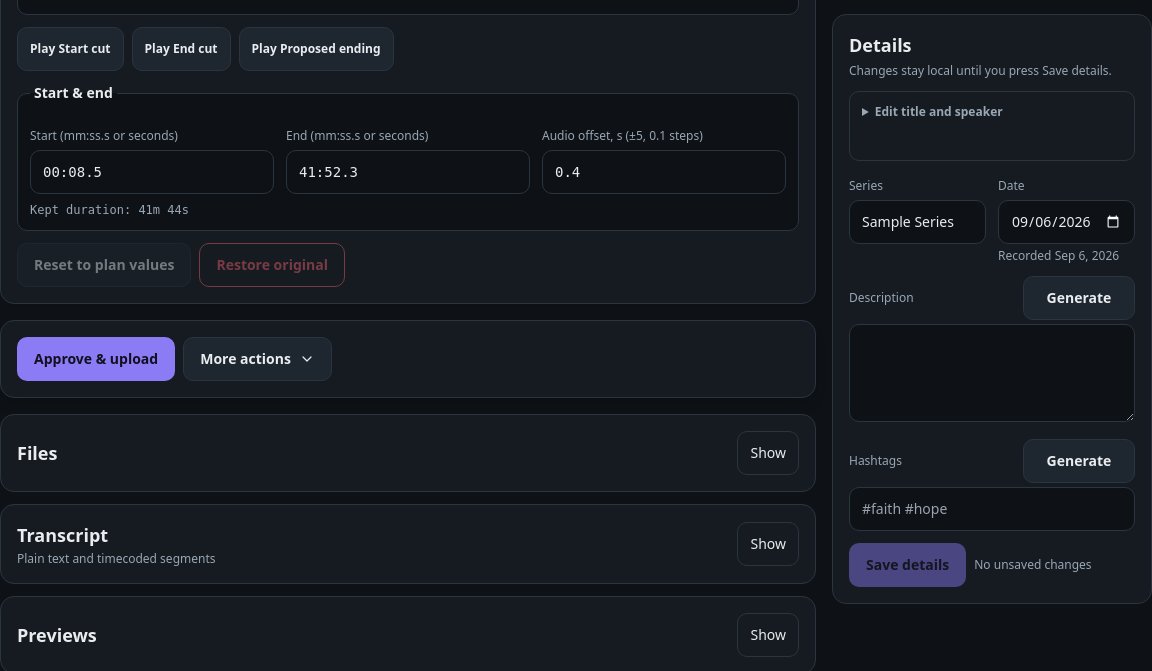
Test: SermonReview mobile layout › renders one refine panel after the action row
(page scrolled)
What coordinates should you click on to do the following:
click the button "More actions"
I would click on:
 (258, 358)
Its box is [183,336,332,380].
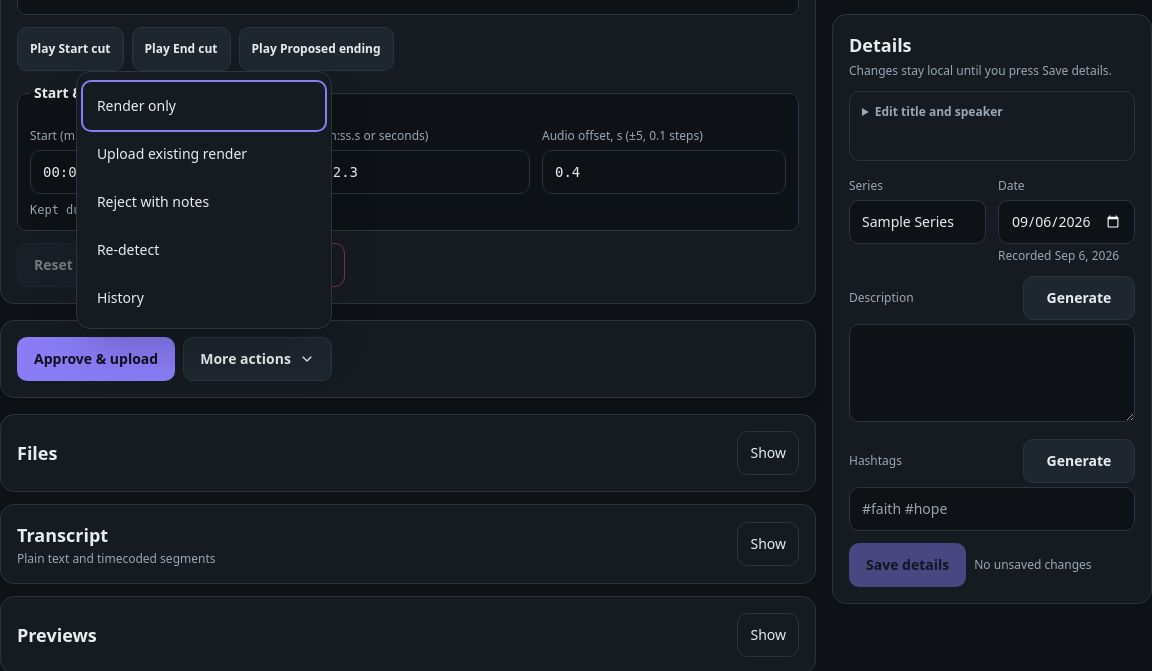
What coordinates should you click on to do the following:
click the menu item "Reject with notes"
I would click on:
 (204, 202)
Its box is [85,180,323,224].
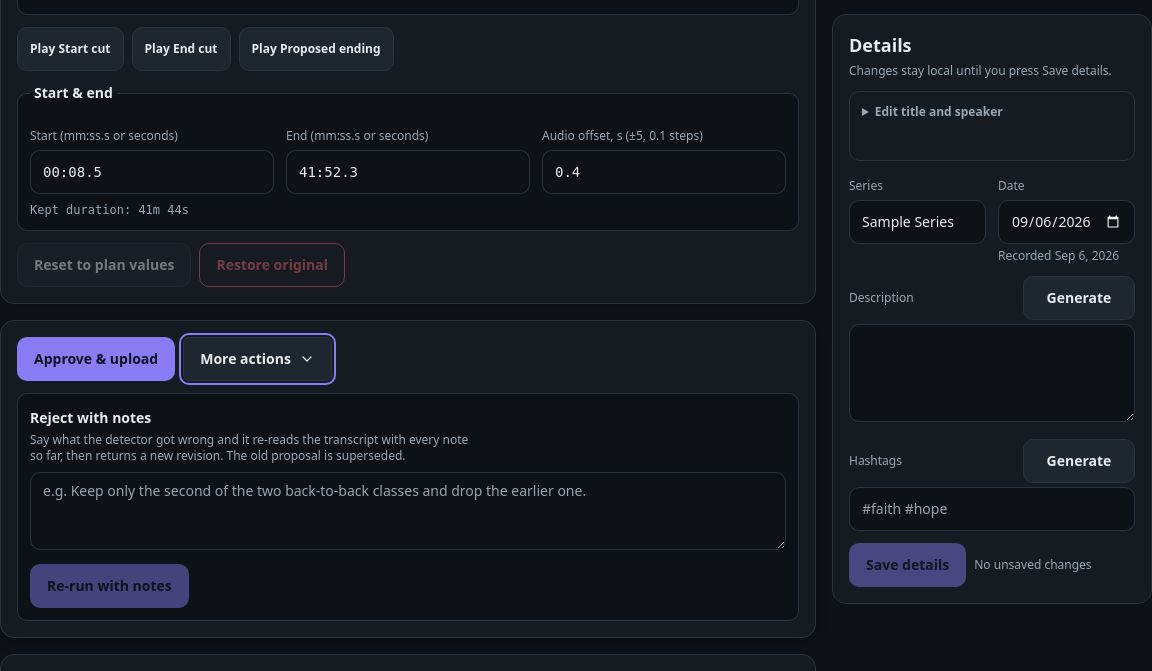
Now the number of text boxes with id "refine-notes" is 1, box [30,472,786,550]
